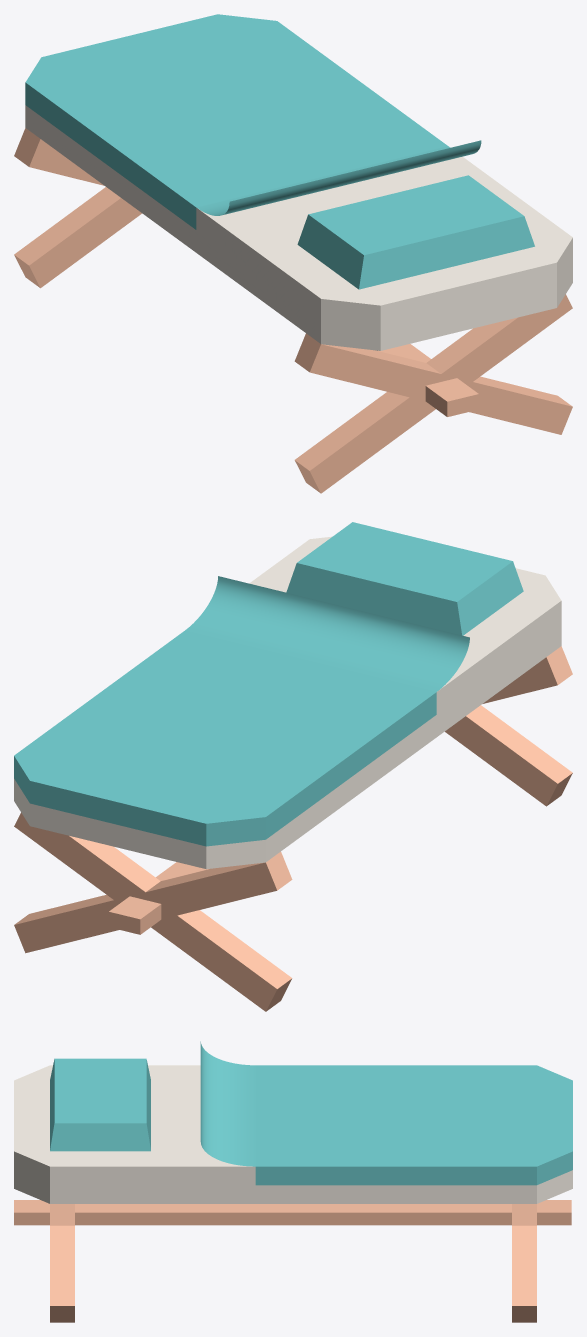
The model's file is kn_bed.glb.
3 renders of one model, top to bottom at view 1: azimuth 30°, elevation 25°; view 2: azimuth 150°, elevation 25°; view 3: azimuth 270°, elevation 25°, orthographic. The views are drawn at different scales.
Visible parts, largest first — view 1: bed; view 2: bed; view 3: bed.
Boxes of the visible parts, bbox=[...] form: bed: bbox=[14, 14, 572, 493]; bed: bbox=[14, 522, 572, 1011]; bed: bbox=[14, 1041, 572, 1322].
Bounding box in the file's own units: 0.3265 × 0.2669 × 0.7288.
